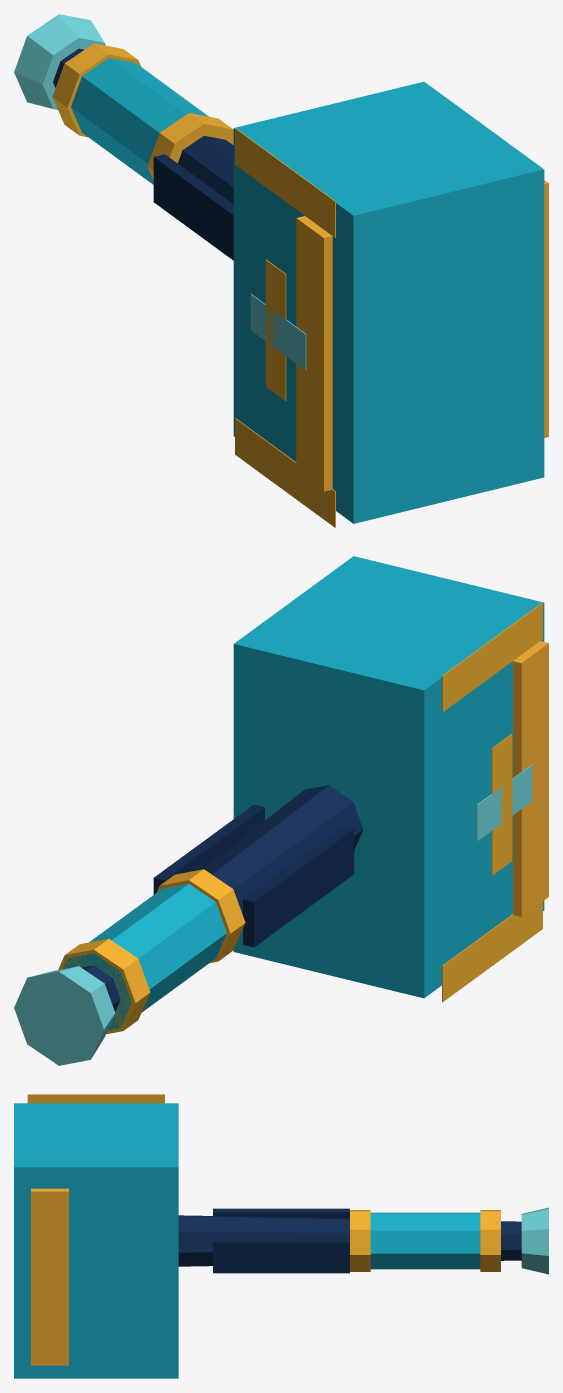
The model's file is SM_RMM_AzureBlockhead.obj.
The picture shows the model from 3 angles, top to bottom: view 1: azimuth 30°, elevation 25°; view 2: azimuth 150°, elevation 25°; view 3: azimuth 270°, elevation 25°; orthographic projection. The views are drawn at different scales.
Parts seen in each view (by area): view 1: SM_RMM_AzureBlockhead; view 2: SM_RMM_AzureBlockhead; view 3: SM_RMM_AzureBlockhead.
Part boxes in pixels (x1,y1,x2,y2): SM_RMM_AzureBlockhead: (14, 14, 548, 527); SM_RMM_AzureBlockhead: (14, 556, 548, 1065); SM_RMM_AzureBlockhead: (14, 1094, 548, 1378).
Size of the model in its own units: 26.1 by 36 by 78.
3 materials, 1 textured.
